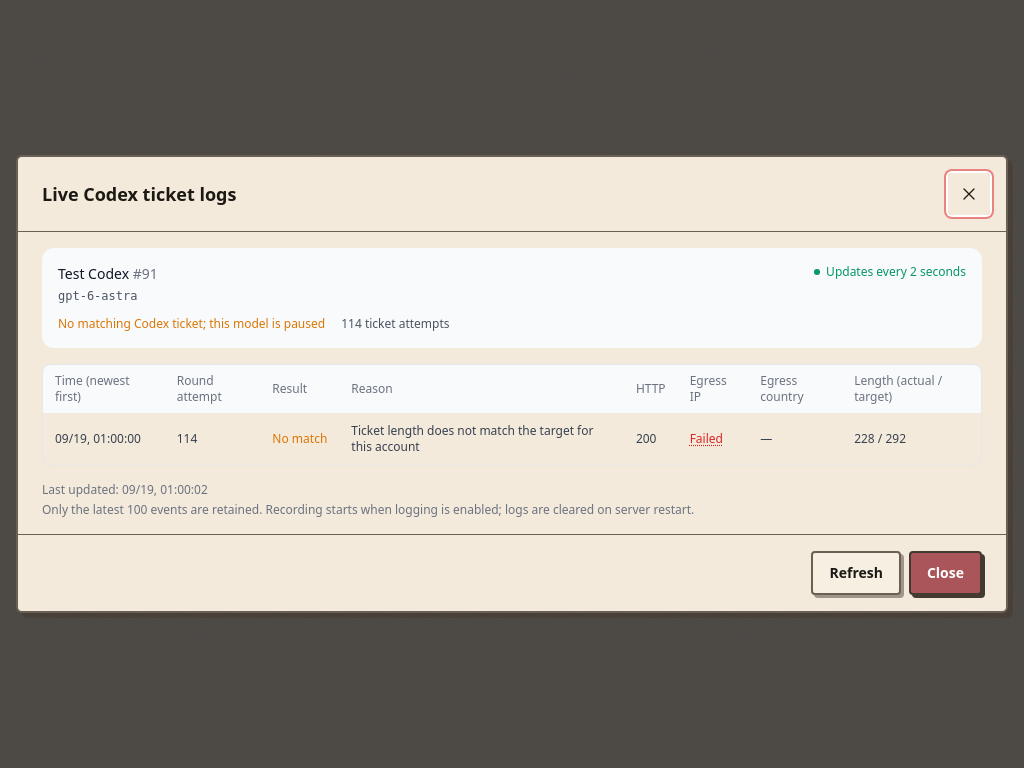
CodexTicketLogsDialog › uses a generic localized explanation for unknown egress reasons without exposing raw values
The width and height of the screenshot is (1024, 768).
What coordinates should you click on to do the following:
click the button "Failed"
I would click on:
 (706, 439)
Its box is 690,431 -> 723,447.
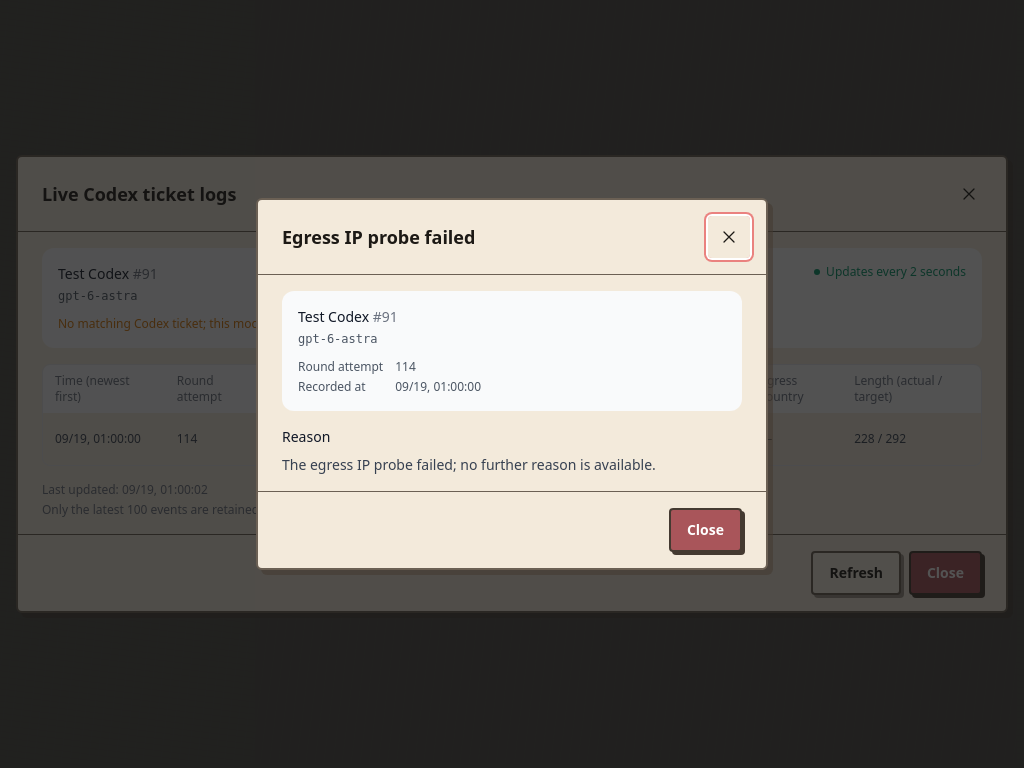
Result: the dialog shows "The egress IP probe failed; no further reason is available." at 282,455 -> 656,474
